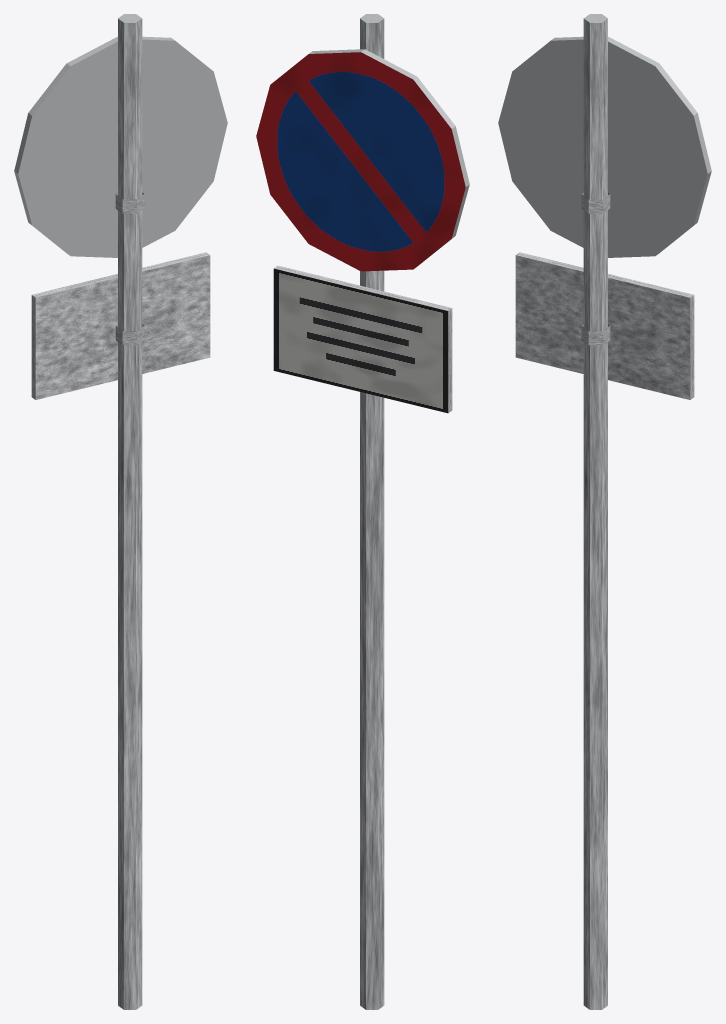
Rendered from SM_Morin_CartelloDivieto_LOD1.fbx.
The picture shows the model from 3 angles, left to right: view 1: azimuth 30°, elevation 25°; view 2: azimuth 150°, elevation 25°; view 3: azimuth 330°, elevation 25°; orthographic projection.
Parts seen in each view (by area): view 1: SM_Morin_CartelloDivieto_LOD1; view 2: SM_Morin_CartelloDivieto_LOD1; view 3: SM_Morin_CartelloDivieto_LOD1.
Boxes of the visible parts, box(x1,y1,x2,y2) form: SM_Morin_CartelloDivieto_LOD1: box(14, 14, 227, 1009); SM_Morin_CartelloDivieto_LOD1: box(256, 14, 469, 1009); SM_Morin_CartelloDivieto_LOD1: box(498, 14, 711, 1009).
Bounding box in the file's own units: 60 × 9.1 × 270.
Materials: 1 (1 with a texture image).
